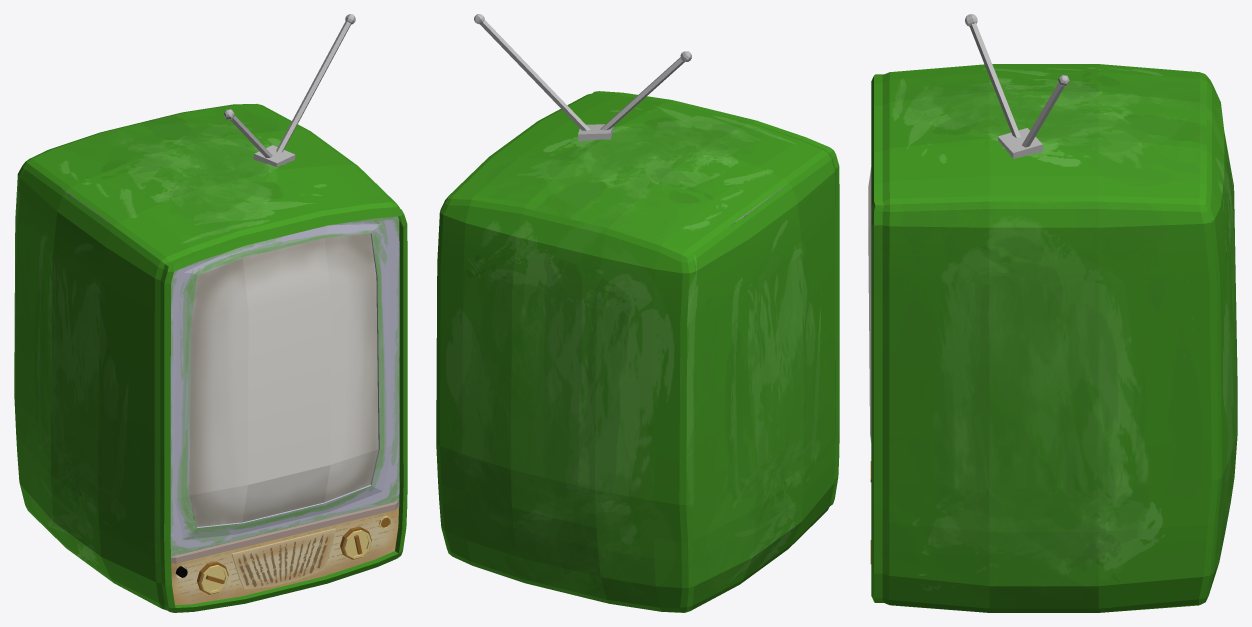
The model's file is tv_3_stories_mesh.fbx.
3 views of the same model, side by side, from view 1: azimuth 30°, elevation 25°; view 2: azimuth 150°, elevation 25°; view 3: azimuth 270°, elevation 25° (orthographic). The views are drawn at different scales.
Parts seen in each view (by area): view 1: tv_pCube8; view 2: tv_pCube8; view 3: tv_pCube8.
Boxes of the visible parts, box(x1,y1,x2,y2) form: tv_pCube8: box(14, 14, 407, 612); tv_pCube8: box(436, 14, 839, 612); tv_pCube8: box(868, 14, 1237, 612).
Size of the model in its own units: 5.85 by 9.47 by 5.63.
